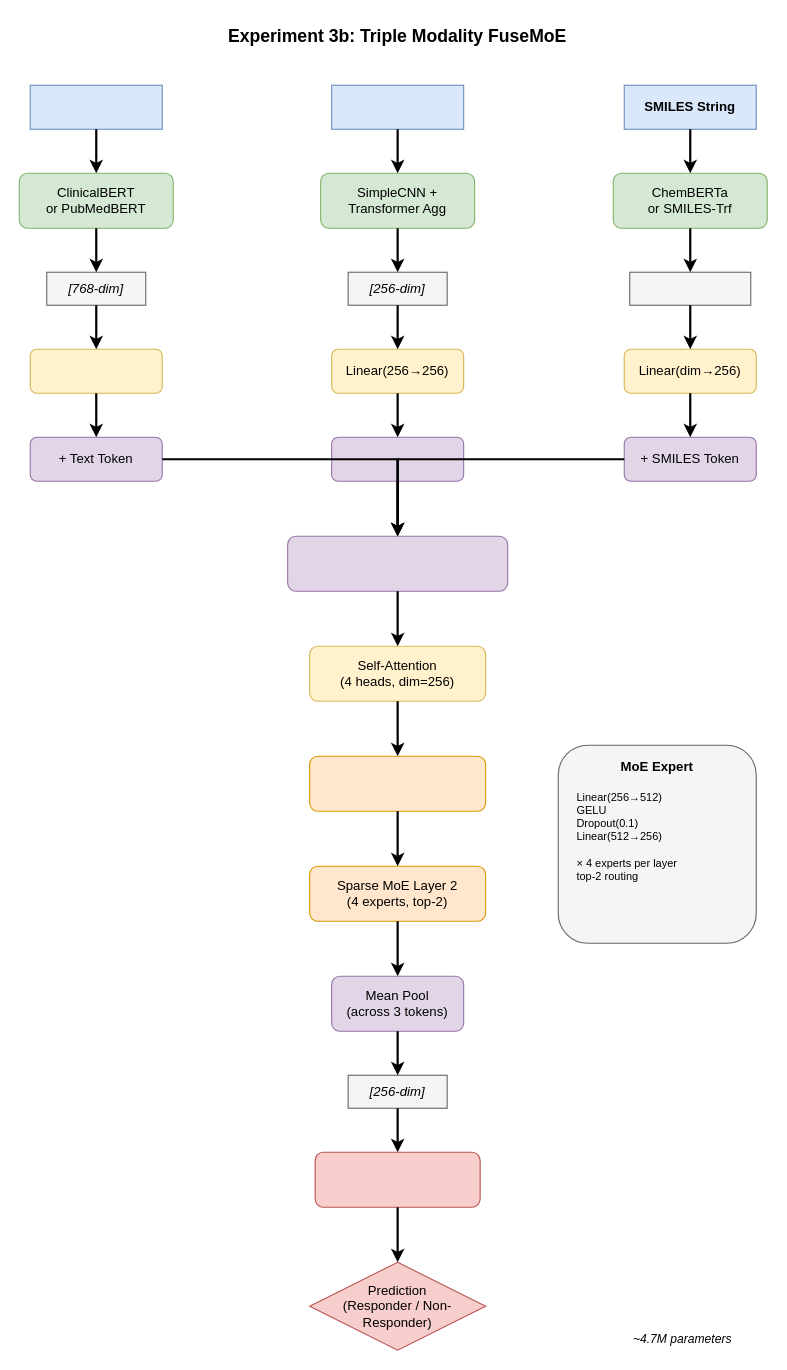
Some shapes in this 787 by 1370 pixel diagram are drawn without their labels. The centre of each missing label's shape, as x and y in pixels:
+ EEG Token: point (397, 458)
[768 or 256-dim]: point (690, 288)
EEG Recording: point (397, 106)
LayerNorm + Dropout Linear(256→2): point (397, 1179)
Linear(768→256): point (95, 370)
Sparse MoE Layer 1 (4 experts, top-2): point (397, 783)
Stack Modality Tokens [batch, 3, 256]: point (397, 563)
Text Report: point (95, 106)
